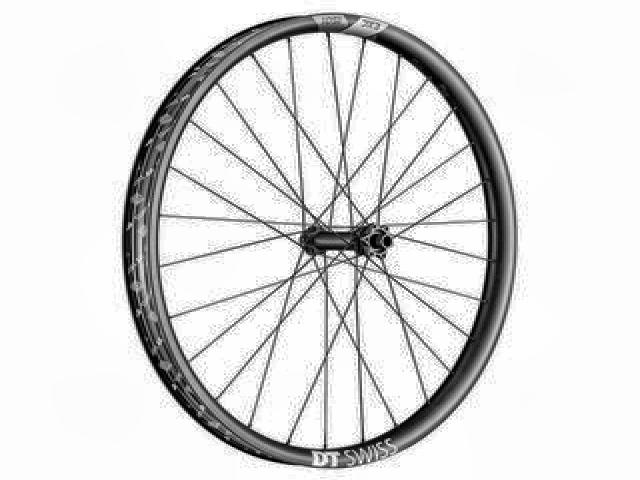wheel: (124, 8, 526, 480)
